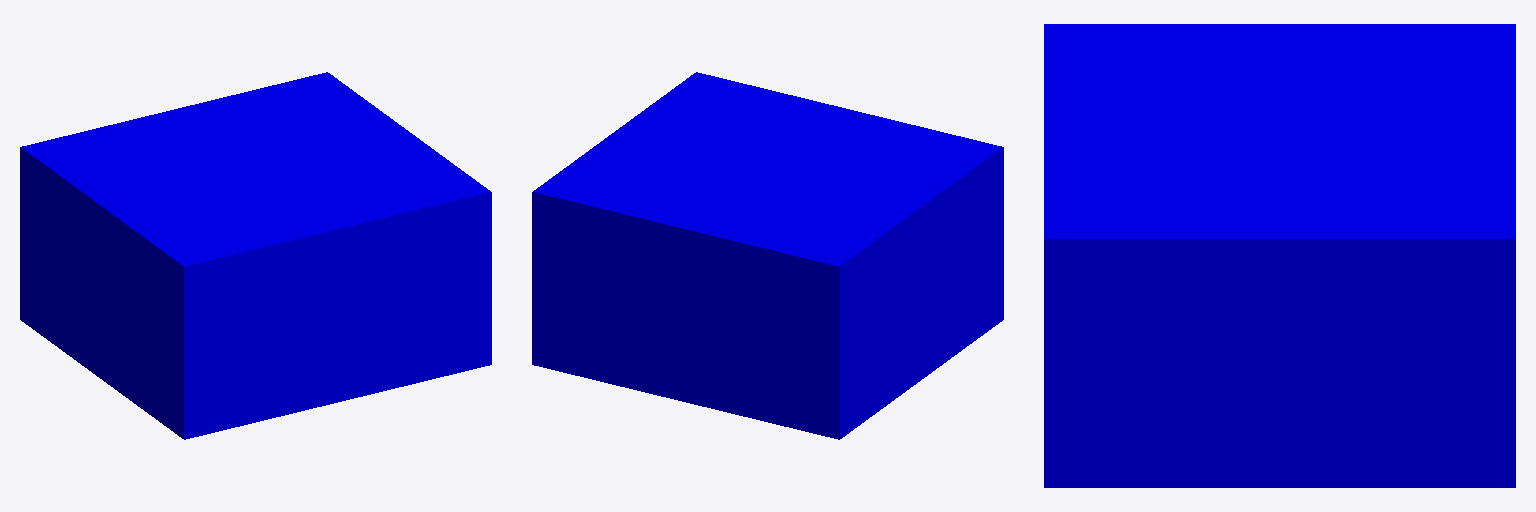
robot.urdf — caja_simple_robot:
<?xml version="1.0"?>
<robot name="caja_simple_robot">
  <!-- Definición del único link con una caja como geometría de colisión y visualización -->
  <link name="link_caja">
    <visual>
      <origin xyz="-0.05 0 0" rpy="0 0 0"/> 
      <geometry>
        <box size="0.26 0.24 0.14"/>
      </geometry>
      <material name="azul">
        <color rgba="0 0 1 1"/>
      </material>
    </visual>
    <collision>
      <origin xyz="-0.05 0 0" rpy="0 0 0"/>
      <geometry>
        <box size="0.26 0.24 0.14"/>
      </geometry>
    </collision>
    <inertial>
      <mass value="1.0"/>
      <origin xyz="0 0 0"/>
      <inertia ixx="0.01" ixy="0" ixz="0" iyy="0.01" iyz="0" izz="0.01"/>
    </inertial>
  </link>

  <!-- Base del robot (no necesariamente requerido para un modelo estático, pero útil para definiciones completas) -->
  <link name="base_link">
  </link>

  <!-- Joint ficticio para conectar la base con el link de la caja -->
  <joint name="base_to_caja_joint" type="fixed">
    <parent link="base_link"/>
    <child link="link_caja"/>
    <origin xyz="-0.0 0 0" rpy="0 0 0"/>
  </joint>
</robot>

--- What the picture shows (computed from the rendered views, not written in the file) ---
The picture shows the robot from 3 angles, left to right: view 1: azimuth 30°, elevation 25°; view 2: azimuth 150°, elevation 25°; view 3: azimuth 270°, elevation 25°; orthographic projection.
Robot: caja_simple_robot — 2 links, 1 joints (1 fixed); root link base_link; default pose: every joint at zero.
Visible links, largest first — view 1: link_caja; view 2: link_caja; view 3: link_caja.
Boxes of the visible links, bbox=[...] form: link_caja: bbox=[20, 72, 491, 439]; link_caja: bbox=[532, 72, 1003, 439]; link_caja: bbox=[1044, 24, 1515, 487].
Size in the robot's own frame: 0.26 by 0.24 by 0.14 metres.
Geometry: primitives only (box / cylinder / sphere), no mesh files.